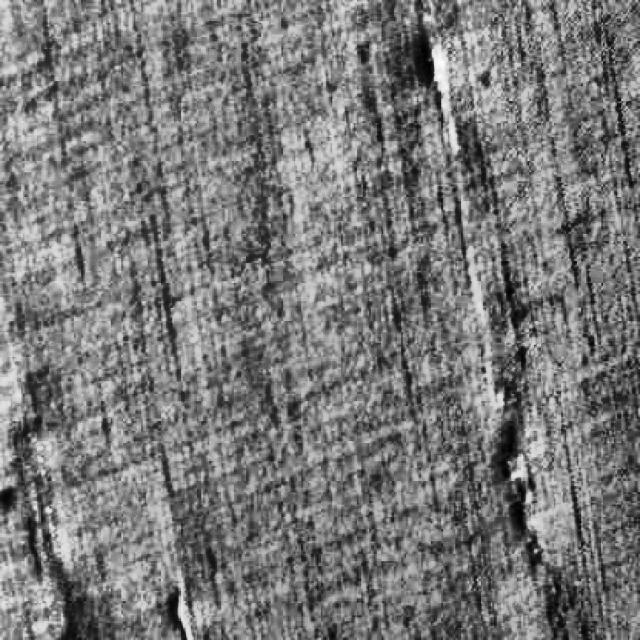thread_error: (400, 1, 508, 403), (484, 405, 584, 639), (157, 567, 203, 640)
